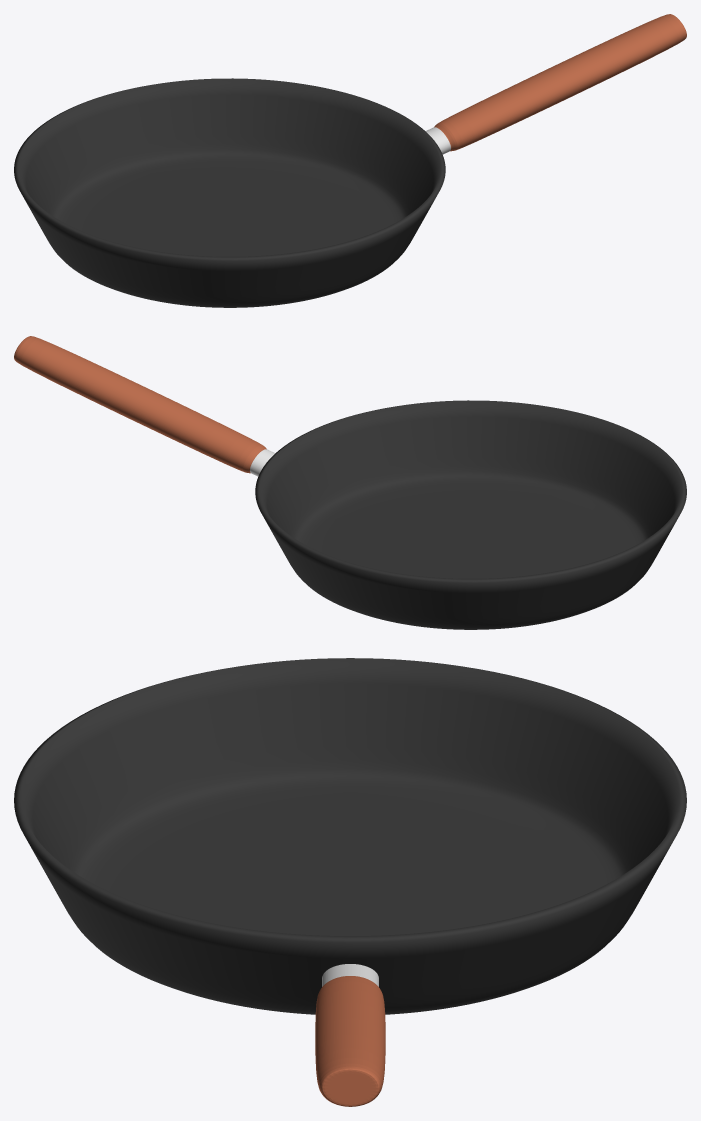
The model's file is Frying Pan.fbx.
The picture shows the model from 3 angles, top to bottom: view 1: azimuth 30°, elevation 25°; view 2: azimuth 150°, elevation 25°; view 3: azimuth 270°, elevation 25°; orthographic projection. The views are drawn at different scales.
Parts seen in each view (by area): view 1: Pan, Handle; view 2: Pan, Handle; view 3: Pan, Handle.
Part boxes in pixels (x1=…): Pan: x1=14, y1=78, x2=445, y2=307; Handle: x1=425, y1=14, x2=686, y2=154; Pan: x1=255, y1=400, x2=686, y2=629; Handle: x1=14, y1=336, x2=275, y2=476; Pan: x1=14, y1=658, x2=686, y2=1014; Handle: x1=315, y1=964, x2=385, y2=1106.
Size of the model in its own units: 406 by 67.21 by 238.
